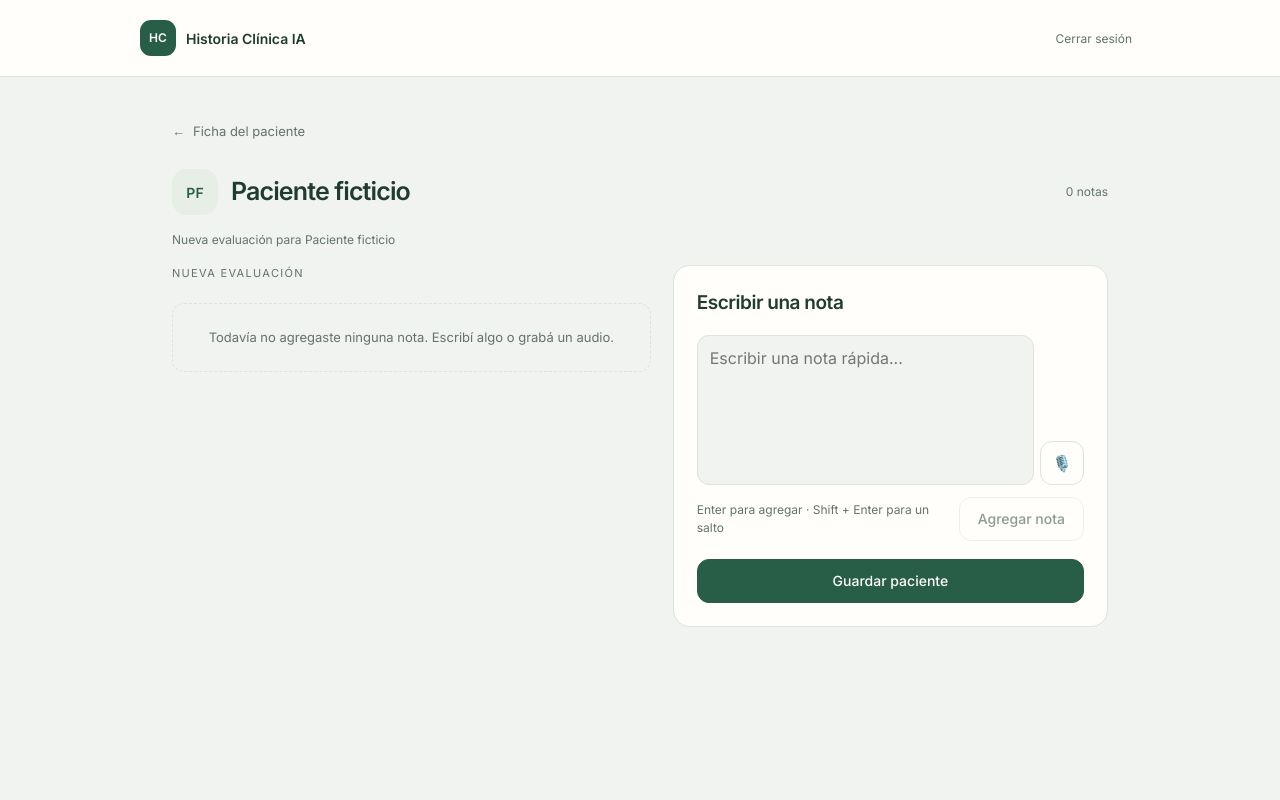
Test: fallo de guardado conserva las notas y permite volver a intentar
Expected: the text "Nueva evaluación para Paciente ficticio" is shown, [172,232,395,247]
Type "Conservar nota" into the text box labelled "Escribir una nota rápida" at coordinates (865, 410), box [697,334,1034,484]
Then press Enter
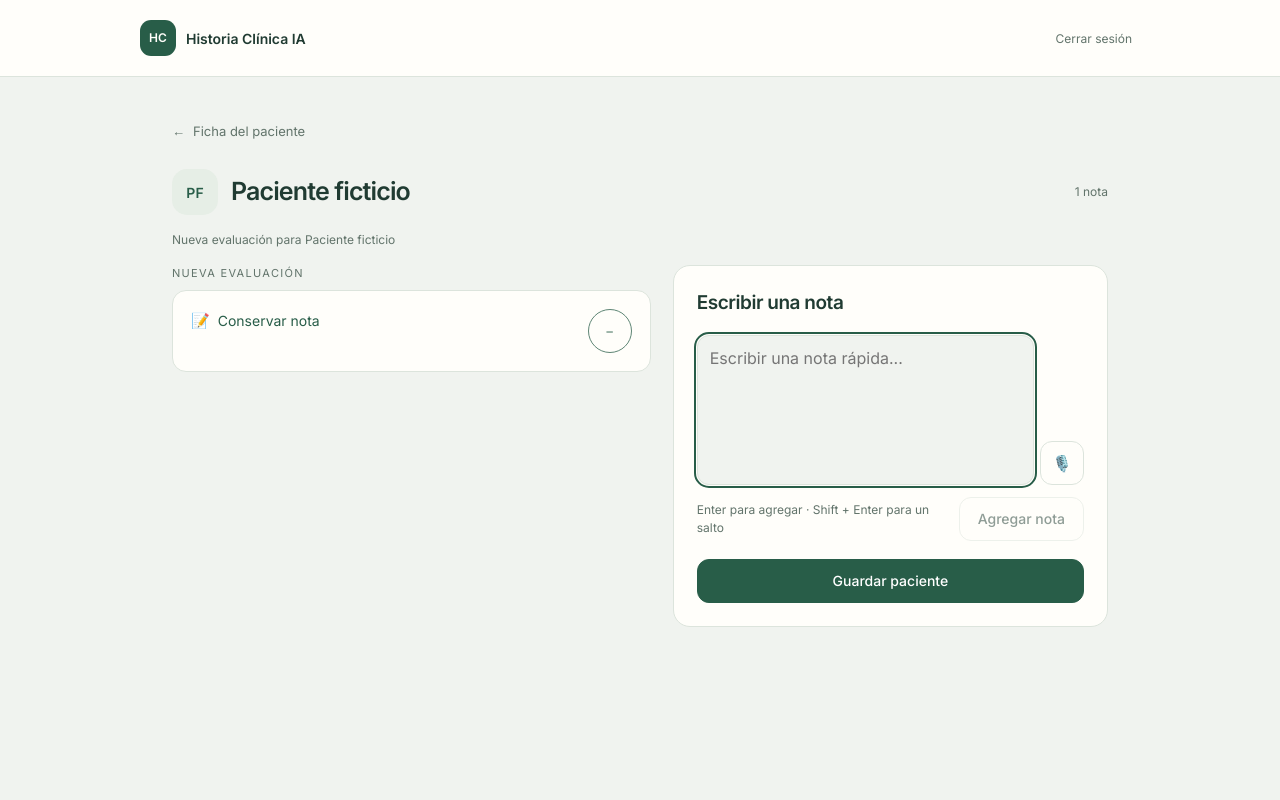
Click the button "Guardar paciente" at coordinates (890, 580), box [697,558,1084,602]
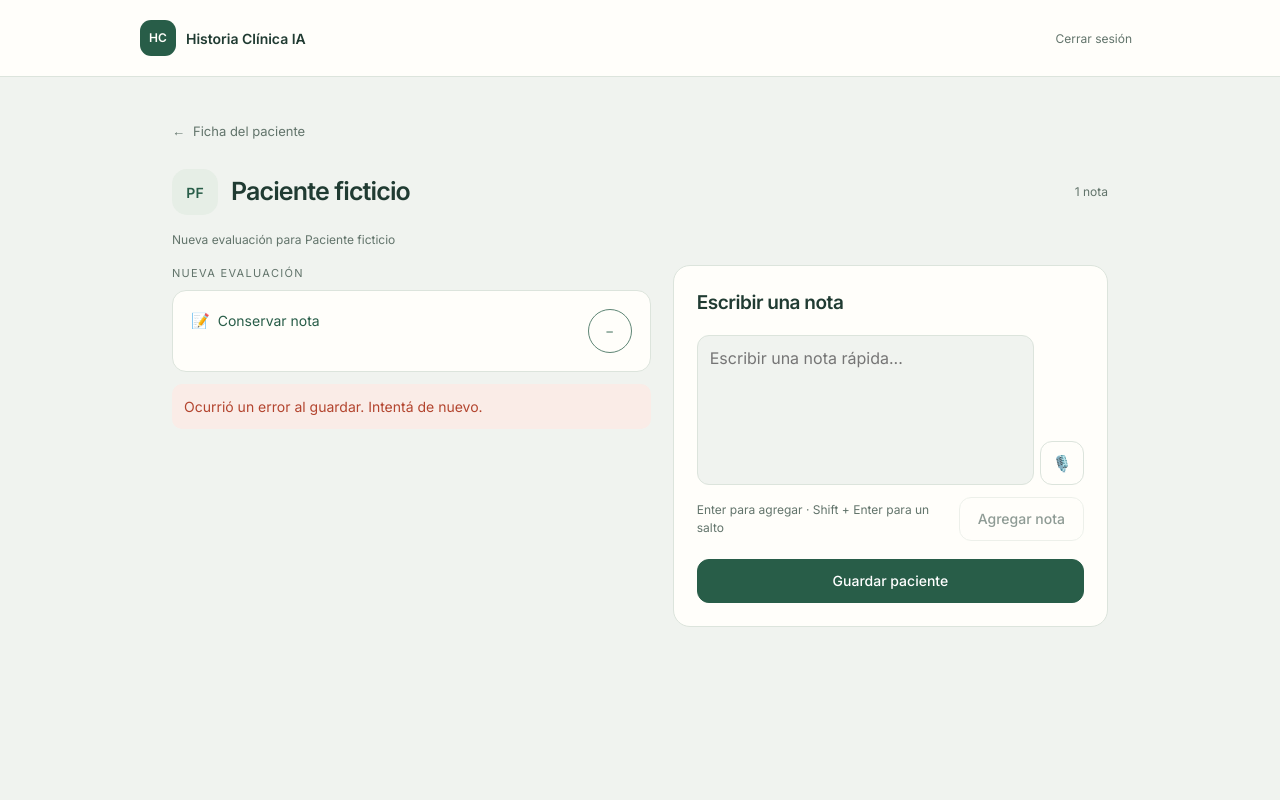
Expected: the text "Conservar nota" is shown, [218,312,320,328]
Expected: the text "Ocurrió un error al guardar. Intentá de nuevo." is shown, [172,384,651,428]
